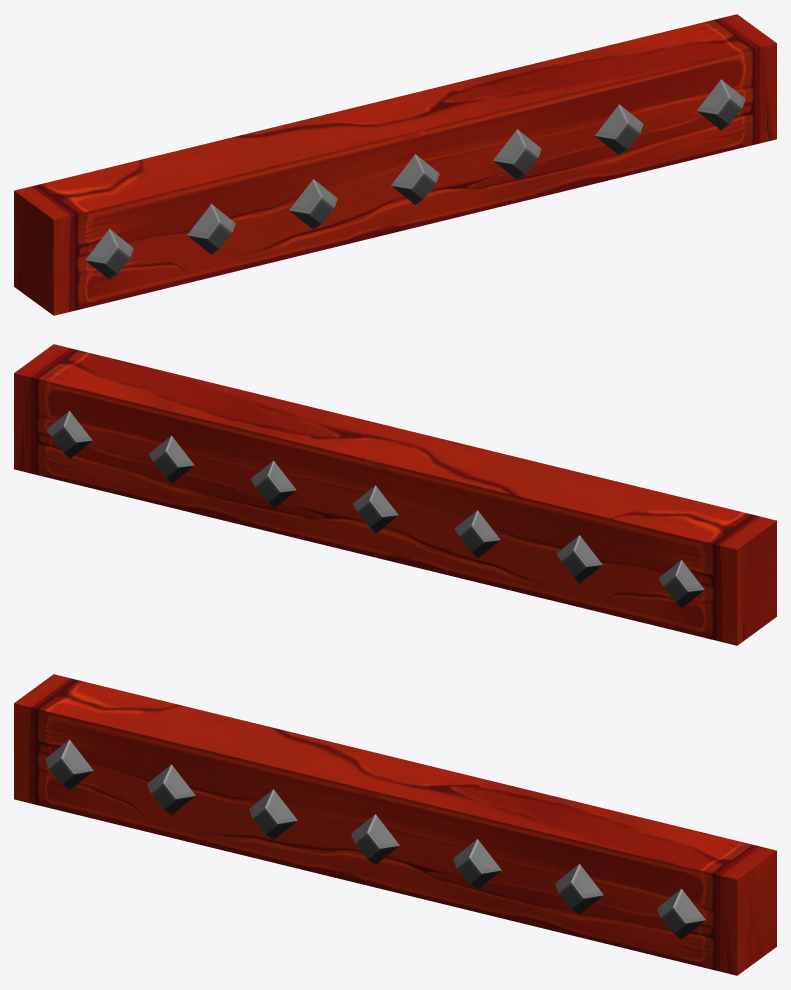
File: fence_rad_04.fbx
The picture shows the model from 3 angles, top to bottom: view 1: azimuth 30°, elevation 25°; view 2: azimuth 150°, elevation 25°; view 3: azimuth 330°, elevation 25°; orthographic projection.
Parts seen in each view (by area): view 1: fence_rad_04; view 2: fence_rad_04; view 3: fence_rad_04.
Boxes of the visible parts, x1,y1,x2,y2 form: fence_rad_04: (14,14,776,315); fence_rad_04: (14,344,776,645); fence_rad_04: (14,674,776,975).
Size of the model in its own units: 315 by 40 by 41.03.
